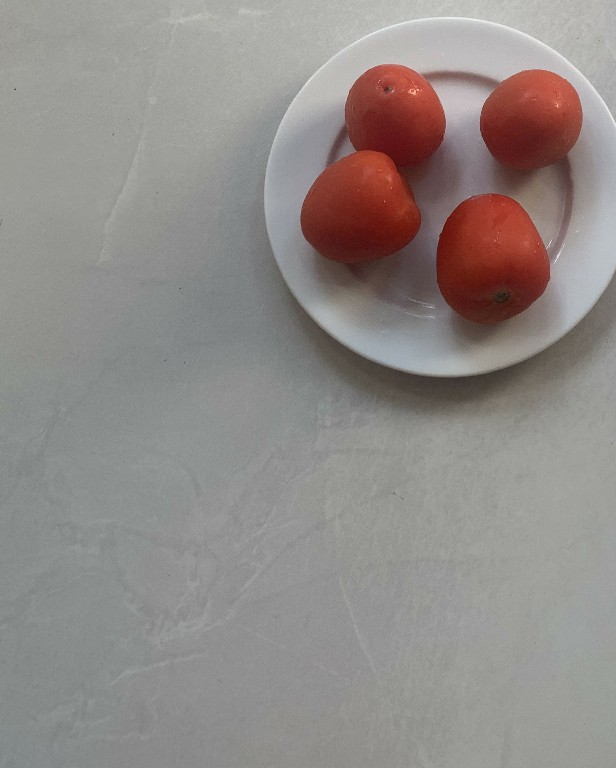OK: (435, 185, 550, 343), (294, 147, 421, 266), (478, 61, 583, 170), (340, 57, 449, 162)
